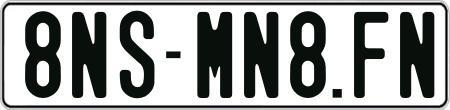8: (288, 10, 326, 102), (25, 11, 63, 101)
F: (352, 9, 389, 100)
M: (196, 10, 232, 97)
N: (244, 11, 283, 100), (71, 10, 110, 98), (400, 10, 435, 97)
S: (120, 8, 156, 95)
